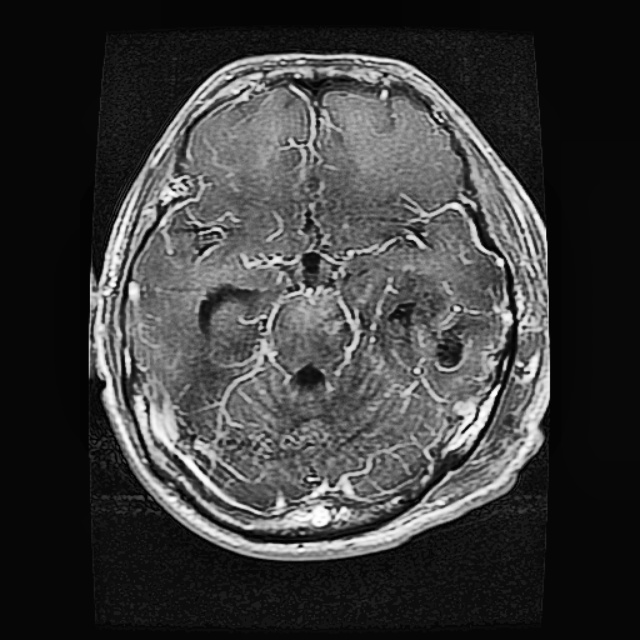Pituitary: (370, 272, 494, 403)
